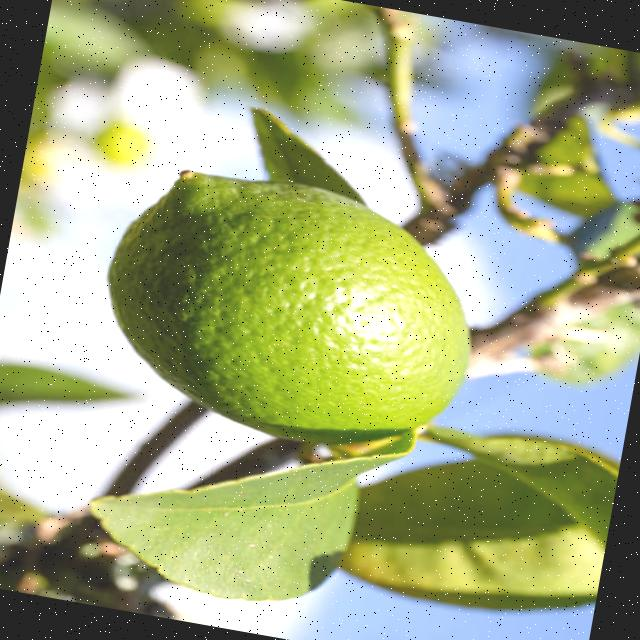Unripe: (83, 150, 496, 470)
